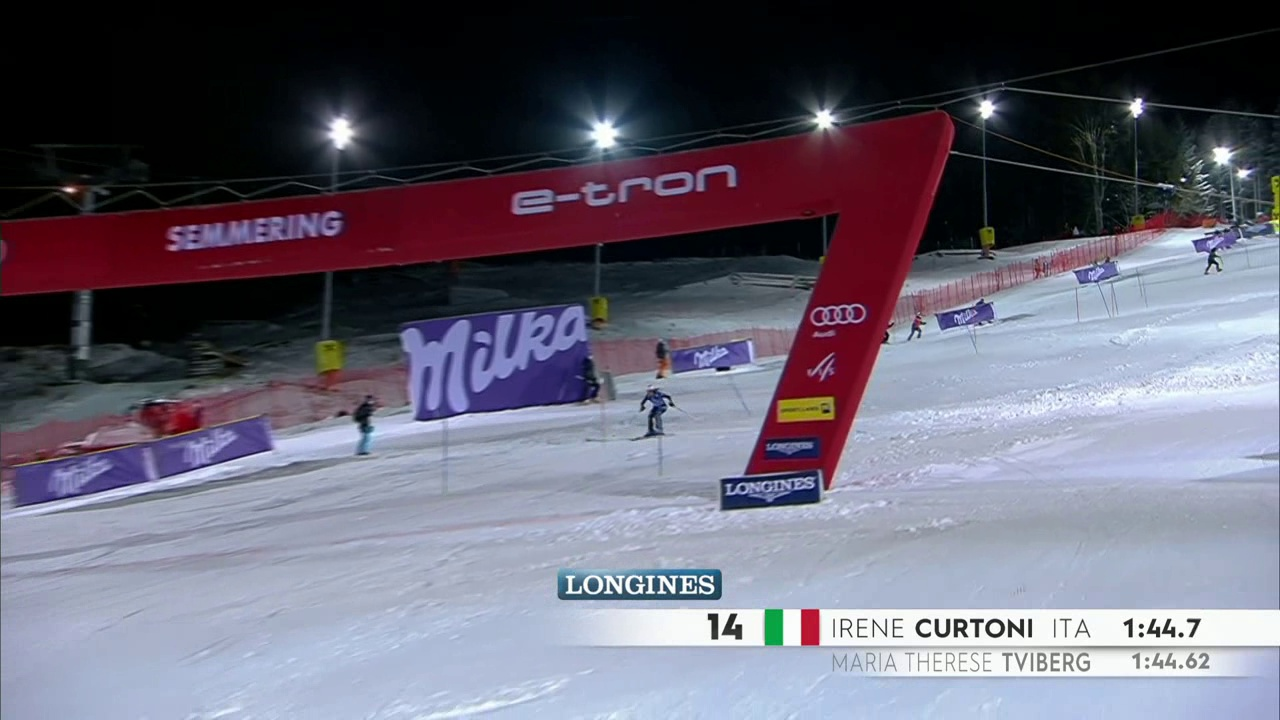audi: (801, 299, 879, 335)
etron: (520, 167, 731, 224)
longines: (557, 564, 730, 608), (718, 474, 827, 510)
milka: (393, 304, 598, 424)
semmering: (172, 207, 340, 252)
